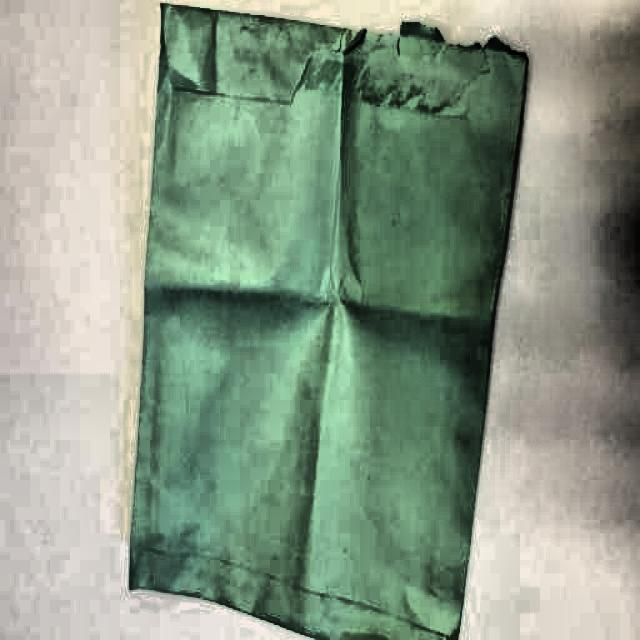paper: (134, 0, 529, 640)
